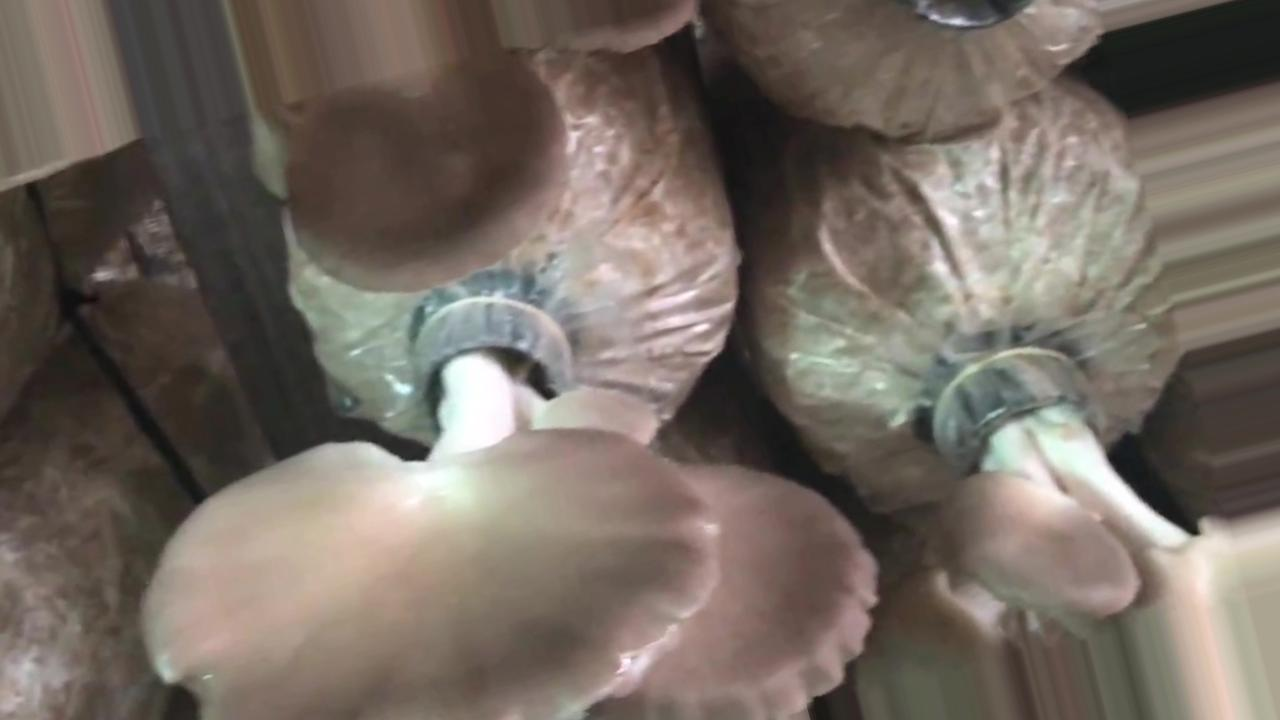nam: (143, 278, 721, 720), (857, 335, 1280, 720), (591, 463, 877, 718), (282, 53, 566, 298)
